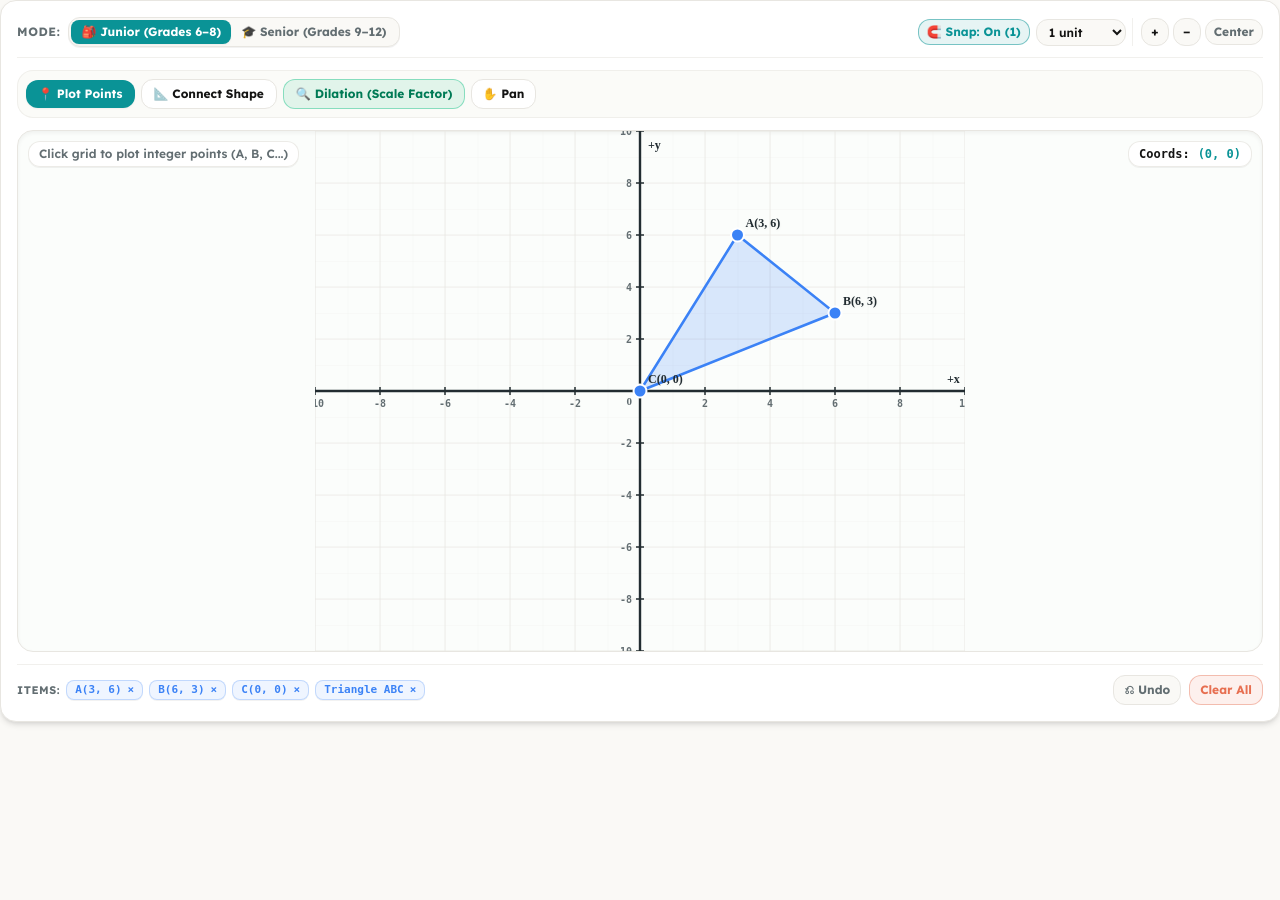
Scenario: CartesianGrapher Component › applies geometric dilation (Before & After) with factor k = 1/3 in Junior Mode
Note: Open dilation tool
Click the button "🔍 Dilation (Scale Factor)". click: click(374, 94)
box: [283,79,465,109]
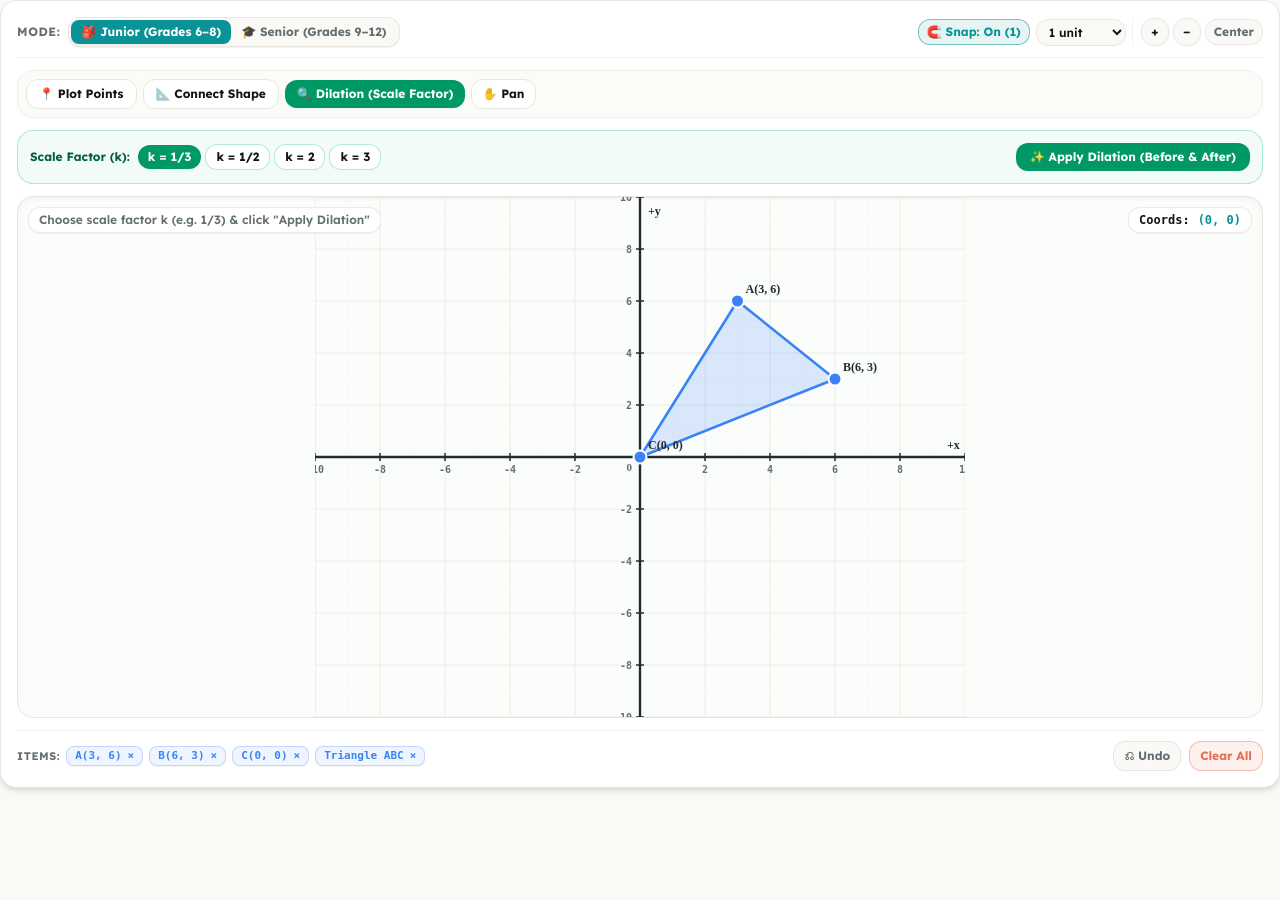
Click the button "✨ Apply Dilation (Before & After)". click: click(1133, 157)
box: [1016,143,1250,171]
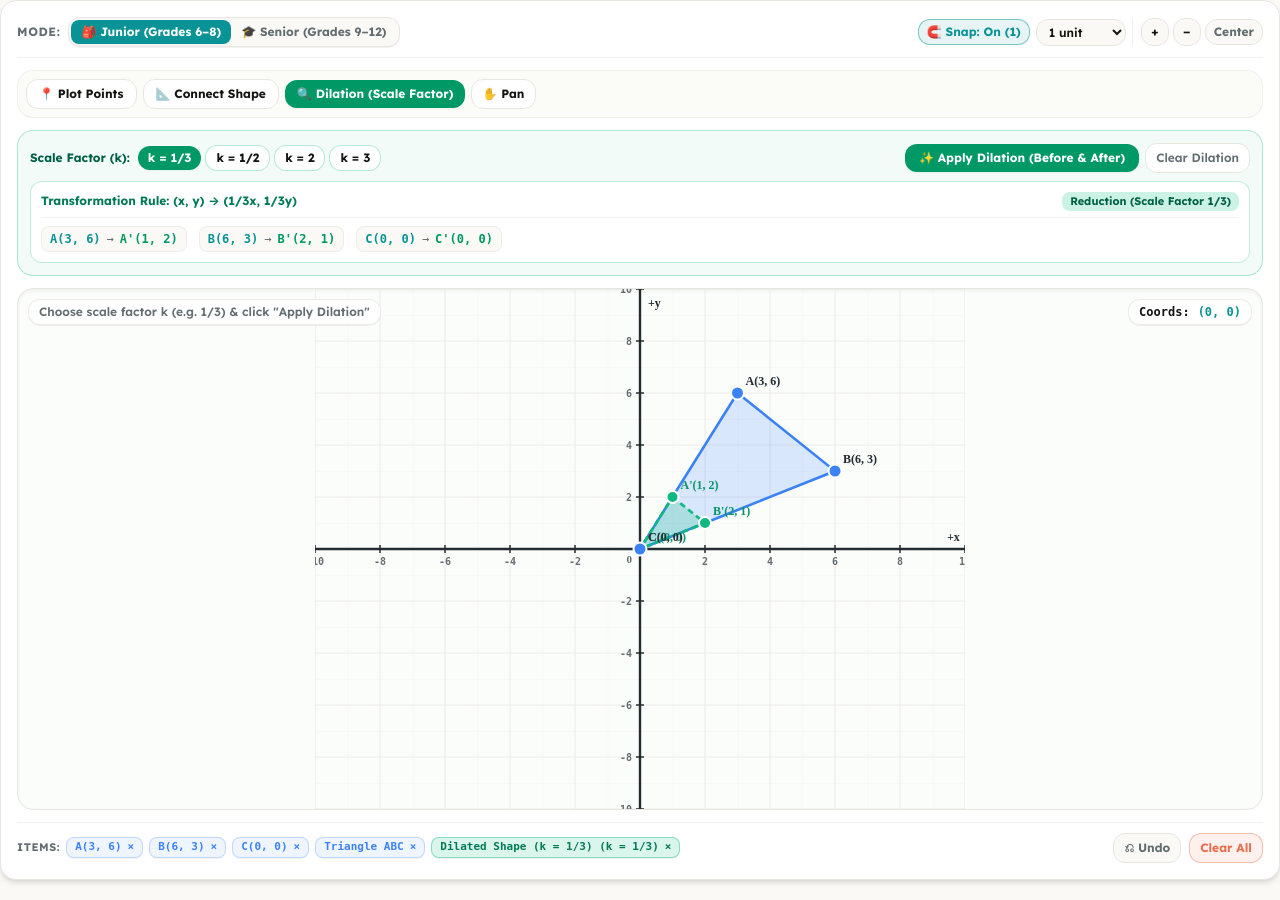
Expected: the text "Transformation Rule: (x, y) → (1/3x, 1/3y)" is shown, [41,193,297,209]
